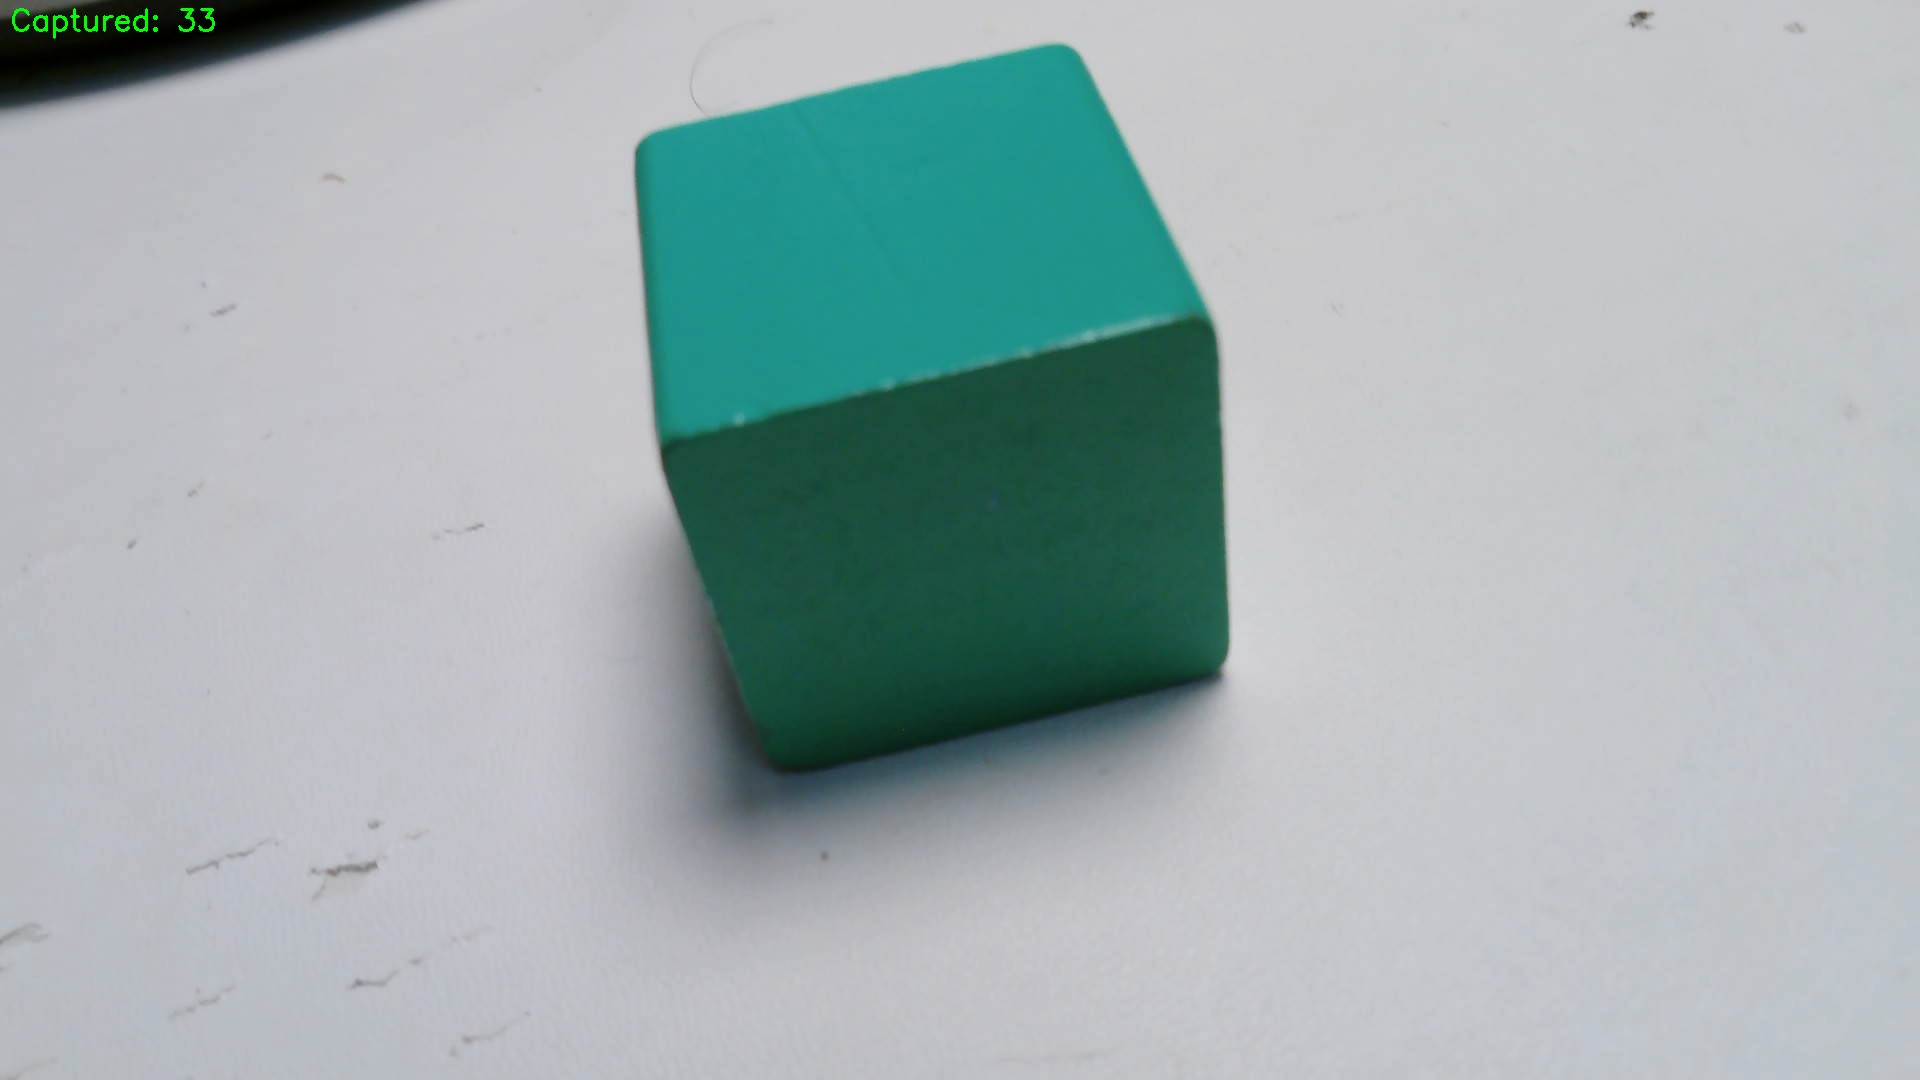green: (644, 40, 1232, 764)
